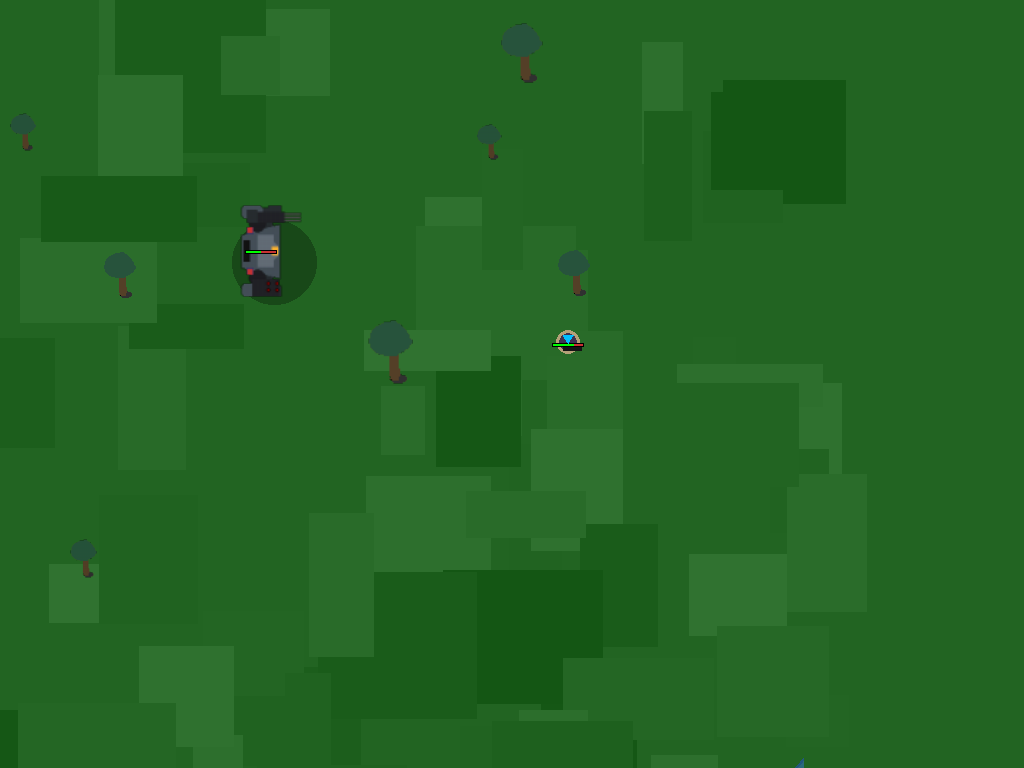HeavyMech: (229, 218, 292, 281)
Lake: (688, 735, 804, 768)
RocketTrooper: (548, 322, 588, 362)
